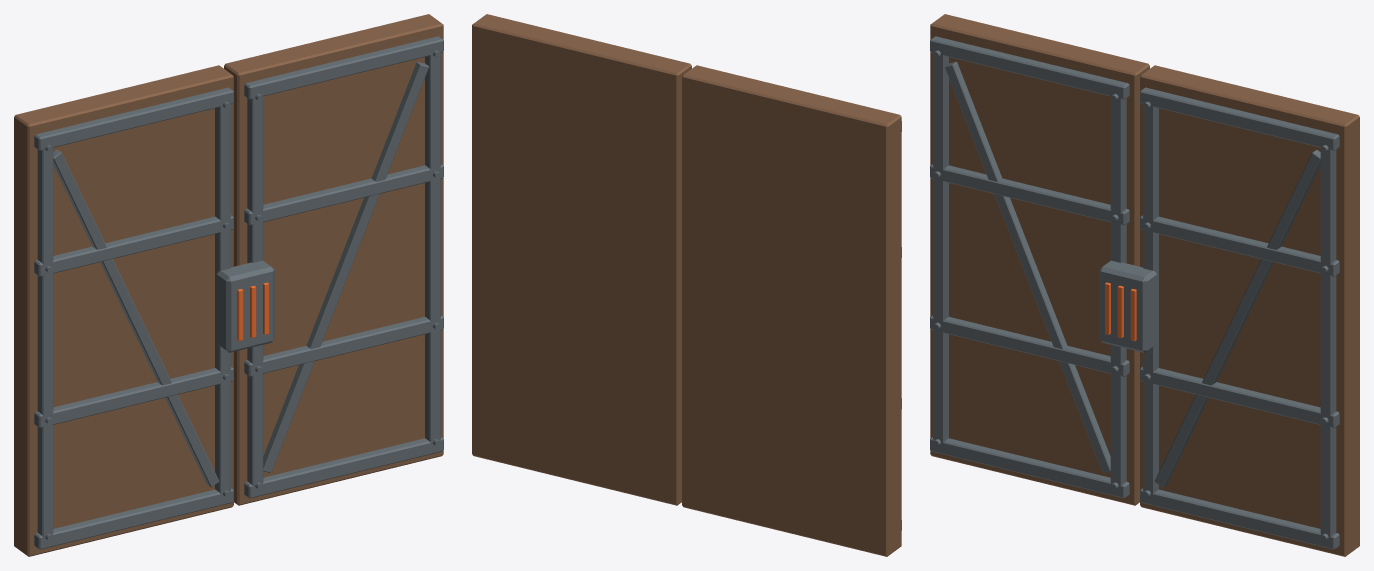
Rendered from SM_DoorPanel_01.fbx.
3 views of the same model, side by side, from view 1: azimuth 30°, elevation 25°; view 2: azimuth 150°, elevation 25°; view 3: azimuth 330°, elevation 25° (orthographic).
Visible parts, largest first — view 1: SM_DoorPanel_01; view 2: SM_DoorPanel_01; view 3: SM_DoorPanel_01.
Boxes of the visible parts, x1,y1,x2,y2 form: SM_DoorPanel_01: (14, 14, 443, 556); SM_DoorPanel_01: (472, 14, 901, 556); SM_DoorPanel_01: (930, 14, 1359, 556).
Bounding box in the file's own units: 258 × 35 × 256.
